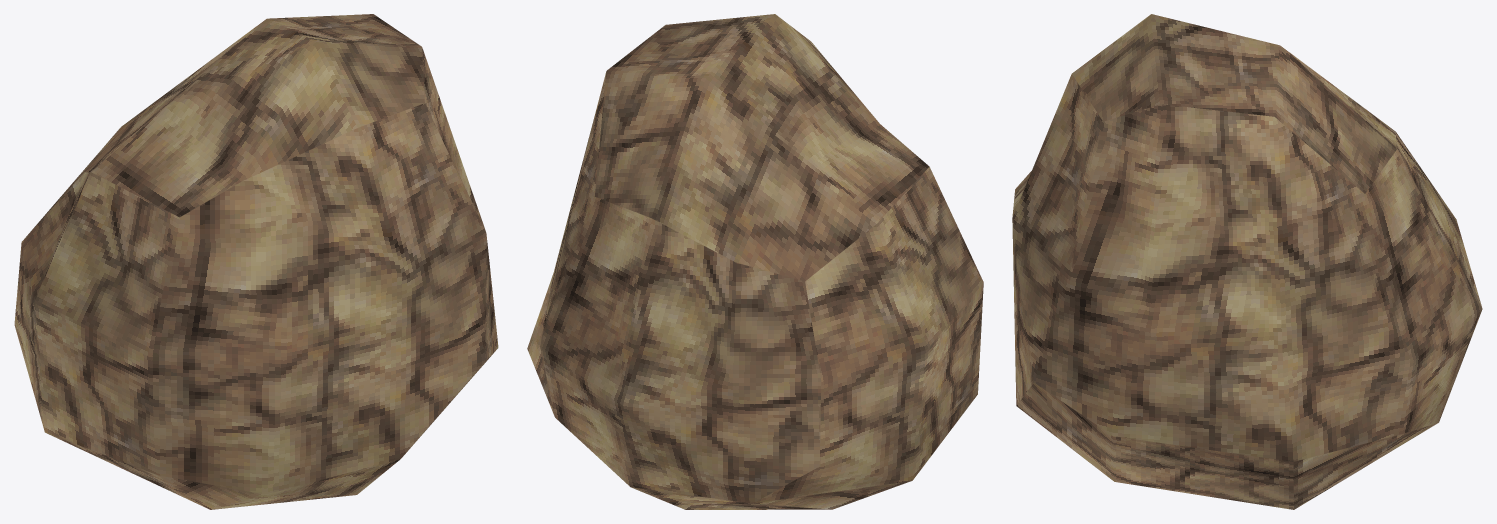
The picture shows the model from 3 angles, left to right: view 1: azimuth 30°, elevation 25°; view 2: azimuth 150°, elevation 25°; view 3: azimuth 270°, elevation 25°; orthographic projection. The views are drawn at different scales.
Visible parts, largest first — view 1: boulder_1; view 2: boulder_1; view 3: boulder_1.
Part boxes in pixels (x1=…): boulder_1: x1=14, y1=14, x2=498, y2=509; boulder_1: x1=527, y1=14, x2=983, y2=509; boulder_1: x1=1012, y1=14, x2=1482, y2=509.
Bounding box in the file's own units: 237 × 261 × 230.
1 material, 1 textured.
